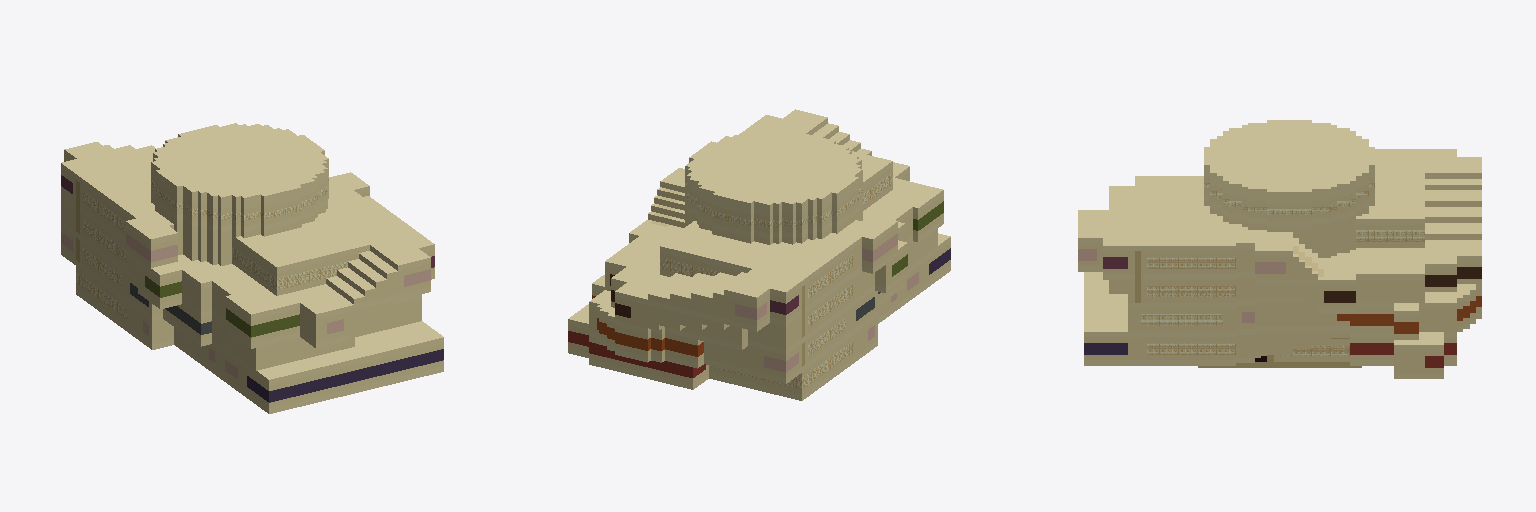
3 views of the same model, side by side, from view 1: azimuth 30°, elevation 25°; view 2: azimuth 150°, elevation 25°; view 3: azimuth 270°, elevation 25° (orthographic).
Bounding box in the file's own units: 43 × 33 × 64.
30 materials, 6 textured.